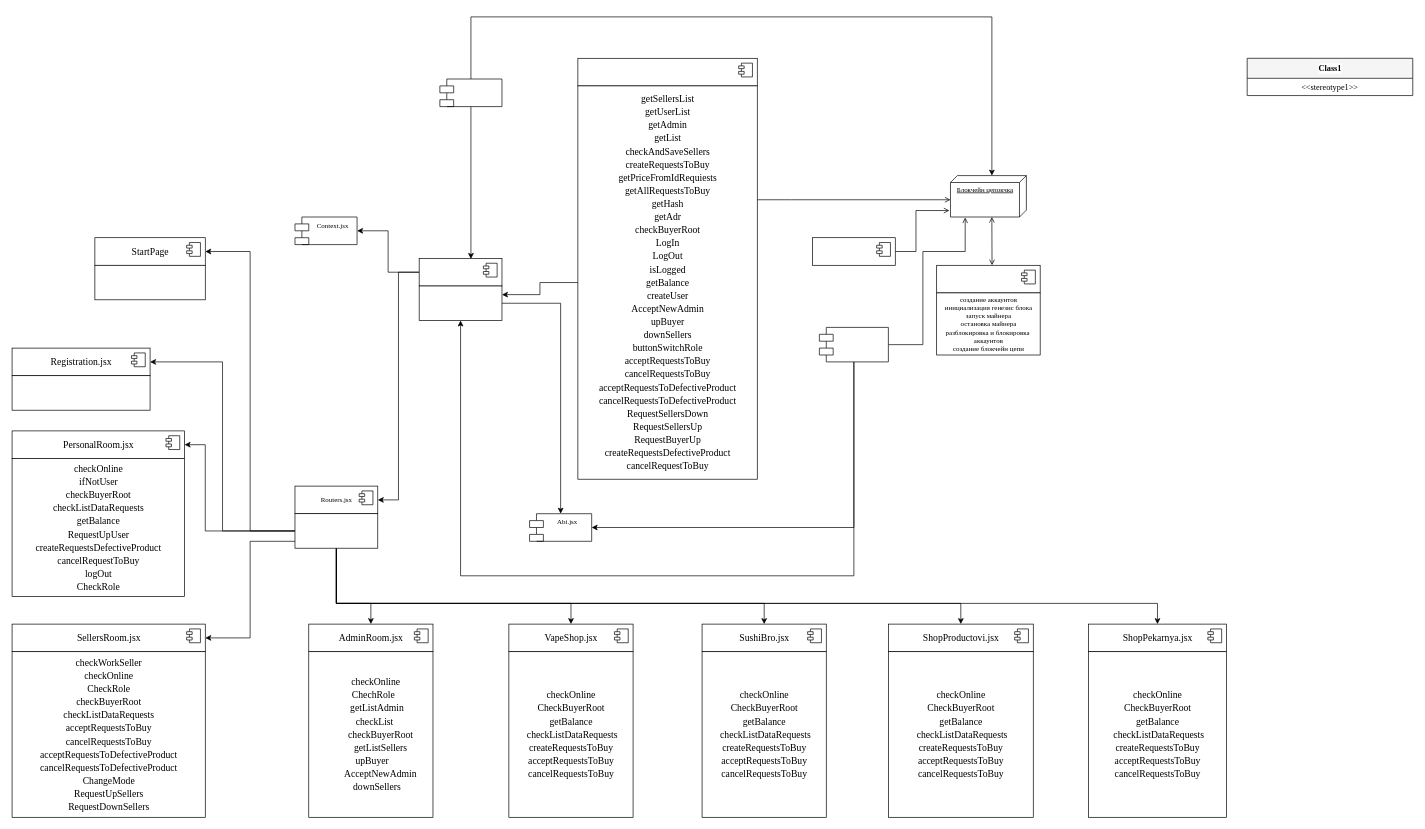
This 1425x829 diagram has some shape labels left out. The shapes that lost their labels are listed below. From the top down, each one's centre as x and y in pixels, then its label:
pixel 470 92: index.js
pixel 667 72: Shop.sol
pixel 853 251: Генезис блок
pixel 149 282: LogInUser
pixel 460 272: App.js
pixel 988 279: Консоль Geth
pixel 460 303: web3 contract Address
pixel 853 344: Адрес и ABI контракта
pixel 80 392: funcReg
pixel 336 530: Routers
